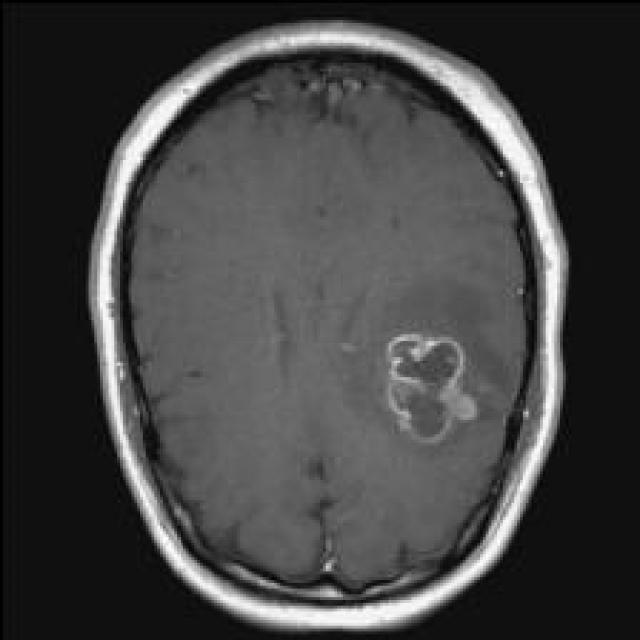Tumor: (389, 331, 480, 446)
